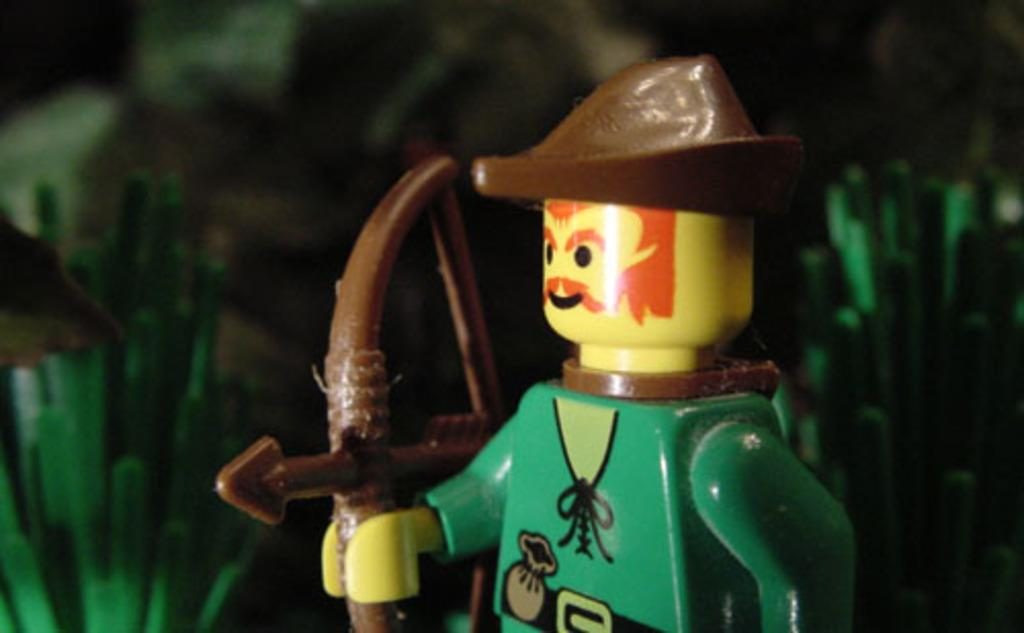Hat: (470, 50, 796, 216)
